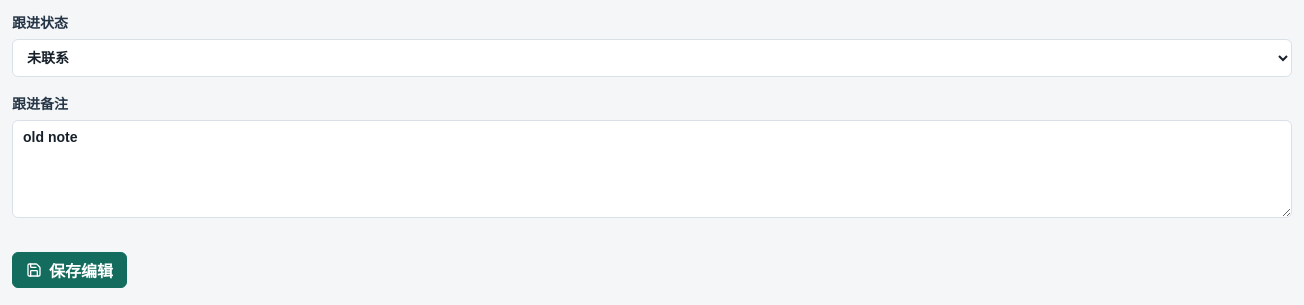
CustomerEditForm › PATCHes notes and status and shows success
The width and height of the screenshot is (1304, 305).
Replace the text in the text box labelled "跟进备注" with "Call next Monday" at (652, 169), box [12,120,1292,218]
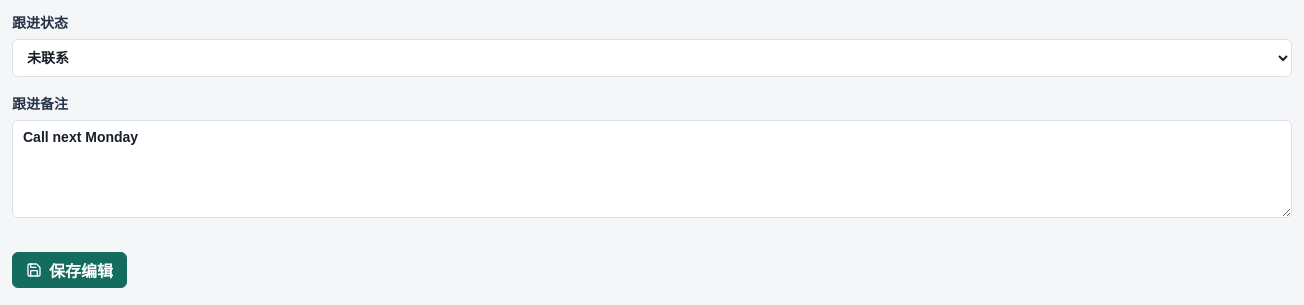
Select "已发送" in the dropdown labelled "跟进状态" at (652, 58), box [12,39,1292,77]
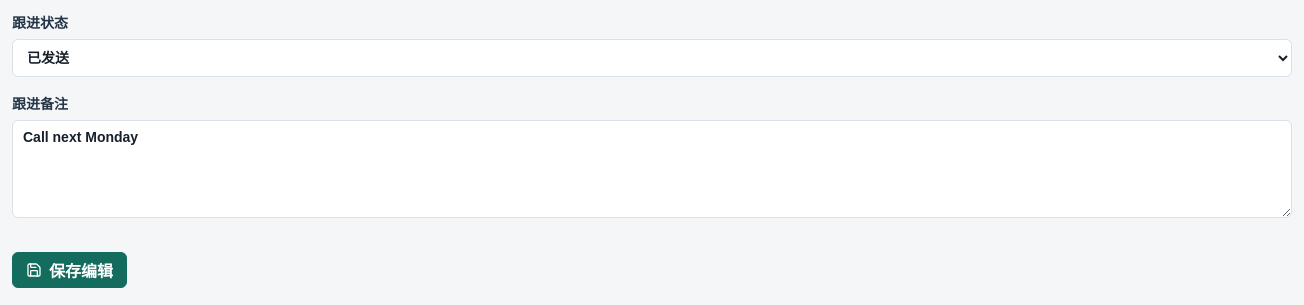
Click the button "保存编辑" at (70, 270), box [12,252,127,288]
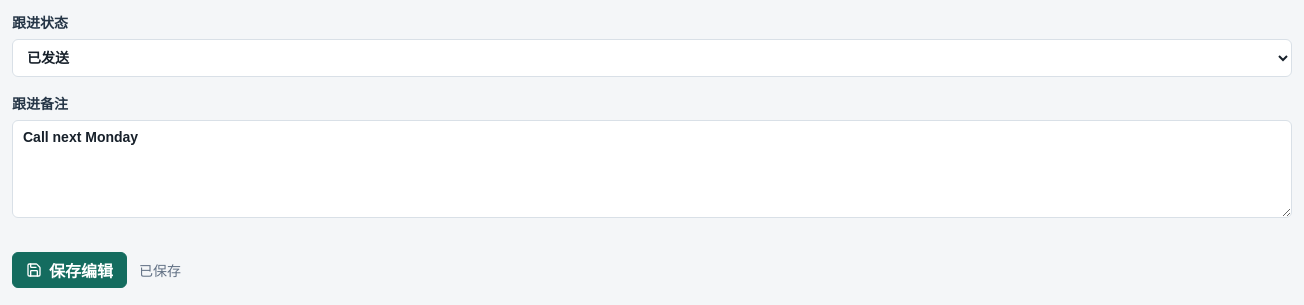
Expected: the text "已保存" is shown, [139,260,181,280]
